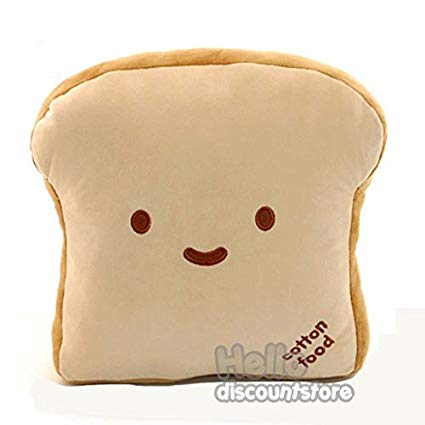slice of bread: (37, 70, 389, 385)
